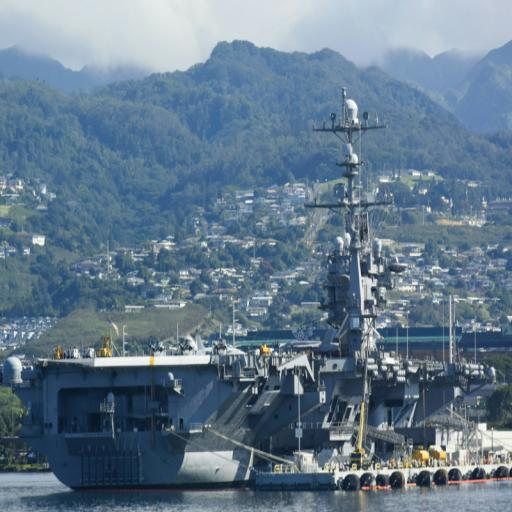Portanaves: (17, 84, 511, 502)
